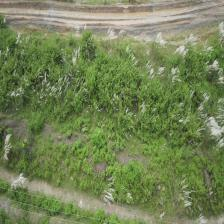vegetation: (85, 50, 142, 133)
